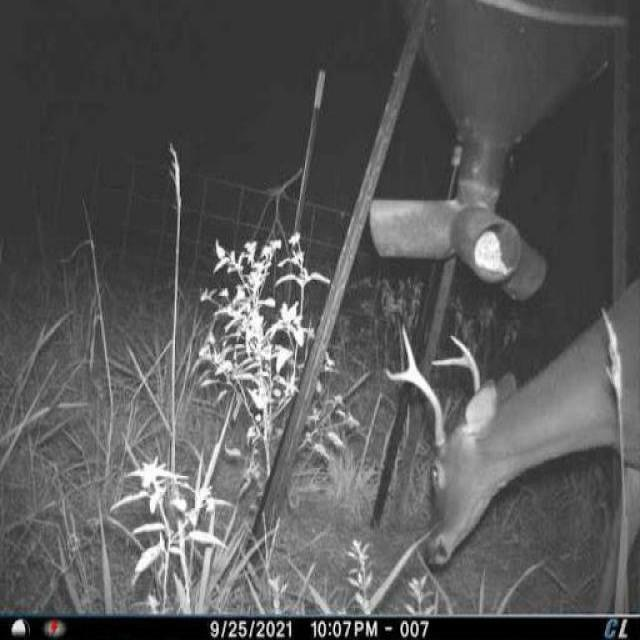deer: (382, 261, 640, 608)
